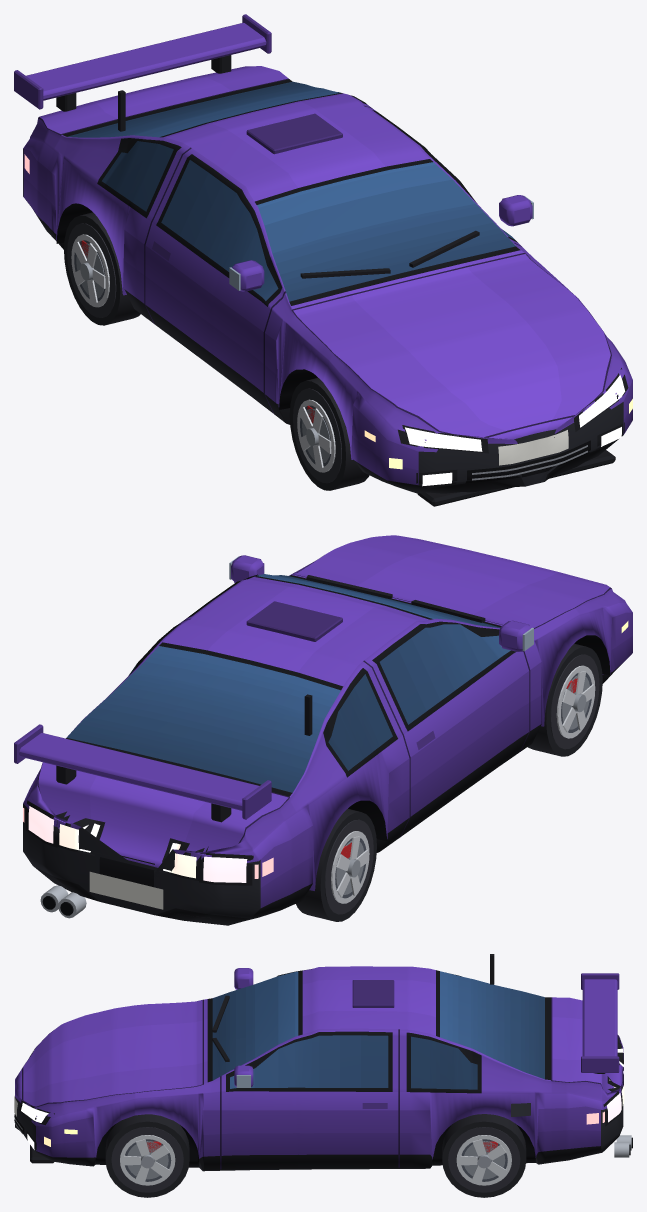
Rendered from car_coupe.glb.
3 renders of one model, top to bottom at view 1: azimuth 30°, elevation 25°; view 2: azimuth 150°, elevation 25°; view 3: azimuth 270°, elevation 25°, orthographic. The views are drawn at different scales.
Visible parts, largest first — view 1: body, wheel_fl, wheel_rl; view 2: body, wheel_rl, wheel_fl; view 3: body, wheel_rr, wheel_fr.
Part boxes in pixels (x1,y1,x2,y2): body: [14, 14, 632, 506]; wheel_fl: [289, 378, 369, 490]; wheel_rl: [64, 212, 140, 325]; body: [14, 535, 632, 925]; wheel_rl: [296, 809, 376, 921]; wheel_fl: [528, 643, 602, 756]; body: [14, 954, 632, 1171]; wheel_rr: [442, 1114, 526, 1197]; wheel_fr: [105, 1114, 189, 1197].
Size of the model in its own units: 1.91 by 1.34 by 4.64.
